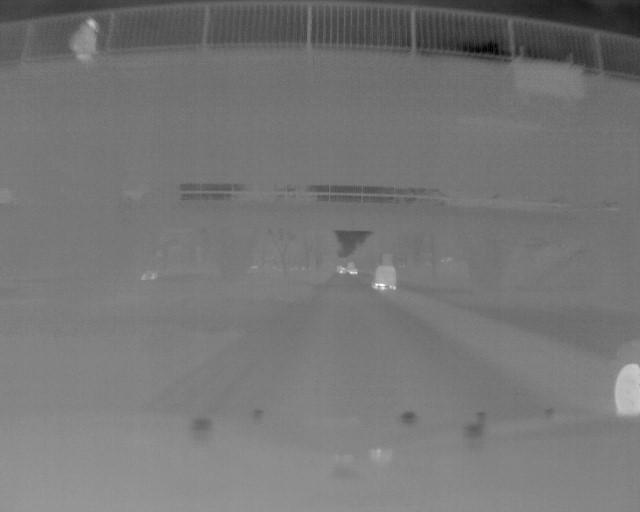car: (370, 264, 399, 292)
